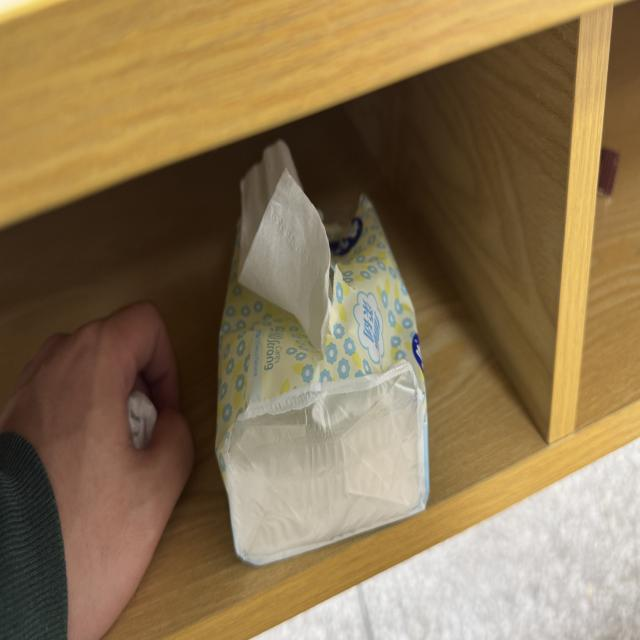tissue: (217, 197, 428, 564), (223, 361, 426, 564), (238, 141, 331, 353), (239, 141, 301, 272), (128, 391, 157, 449)
